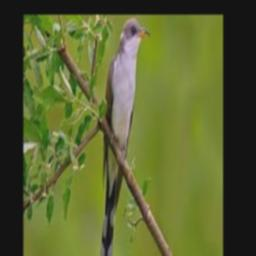Cuckoo: (98, 18, 150, 256)
